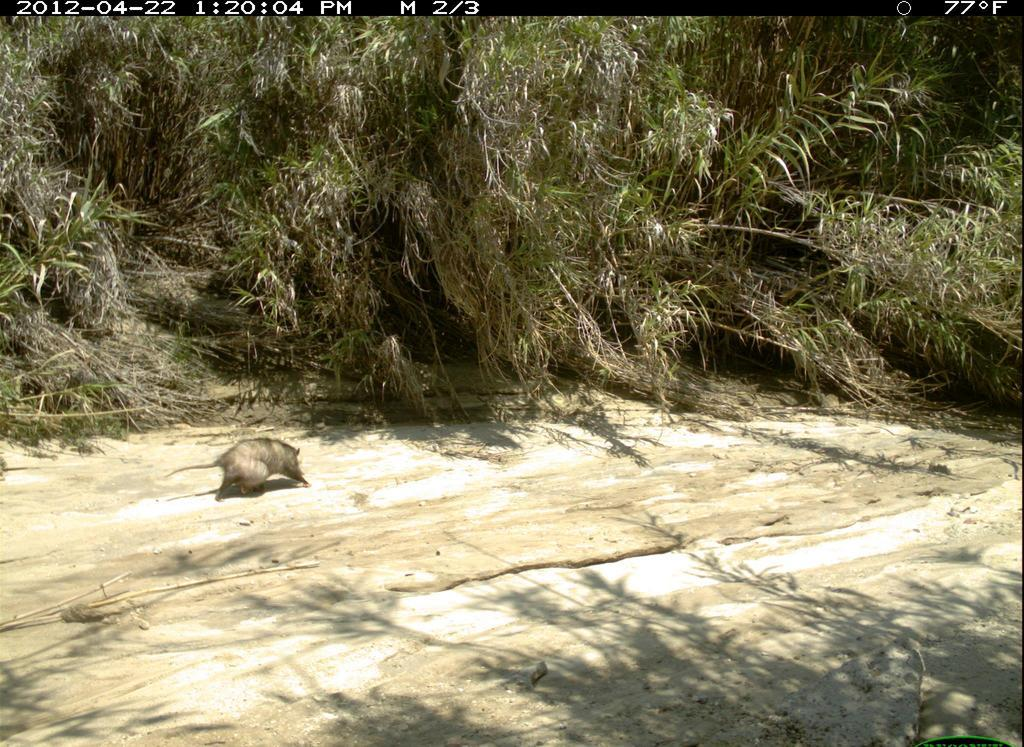opossum: (164, 423, 328, 505)
